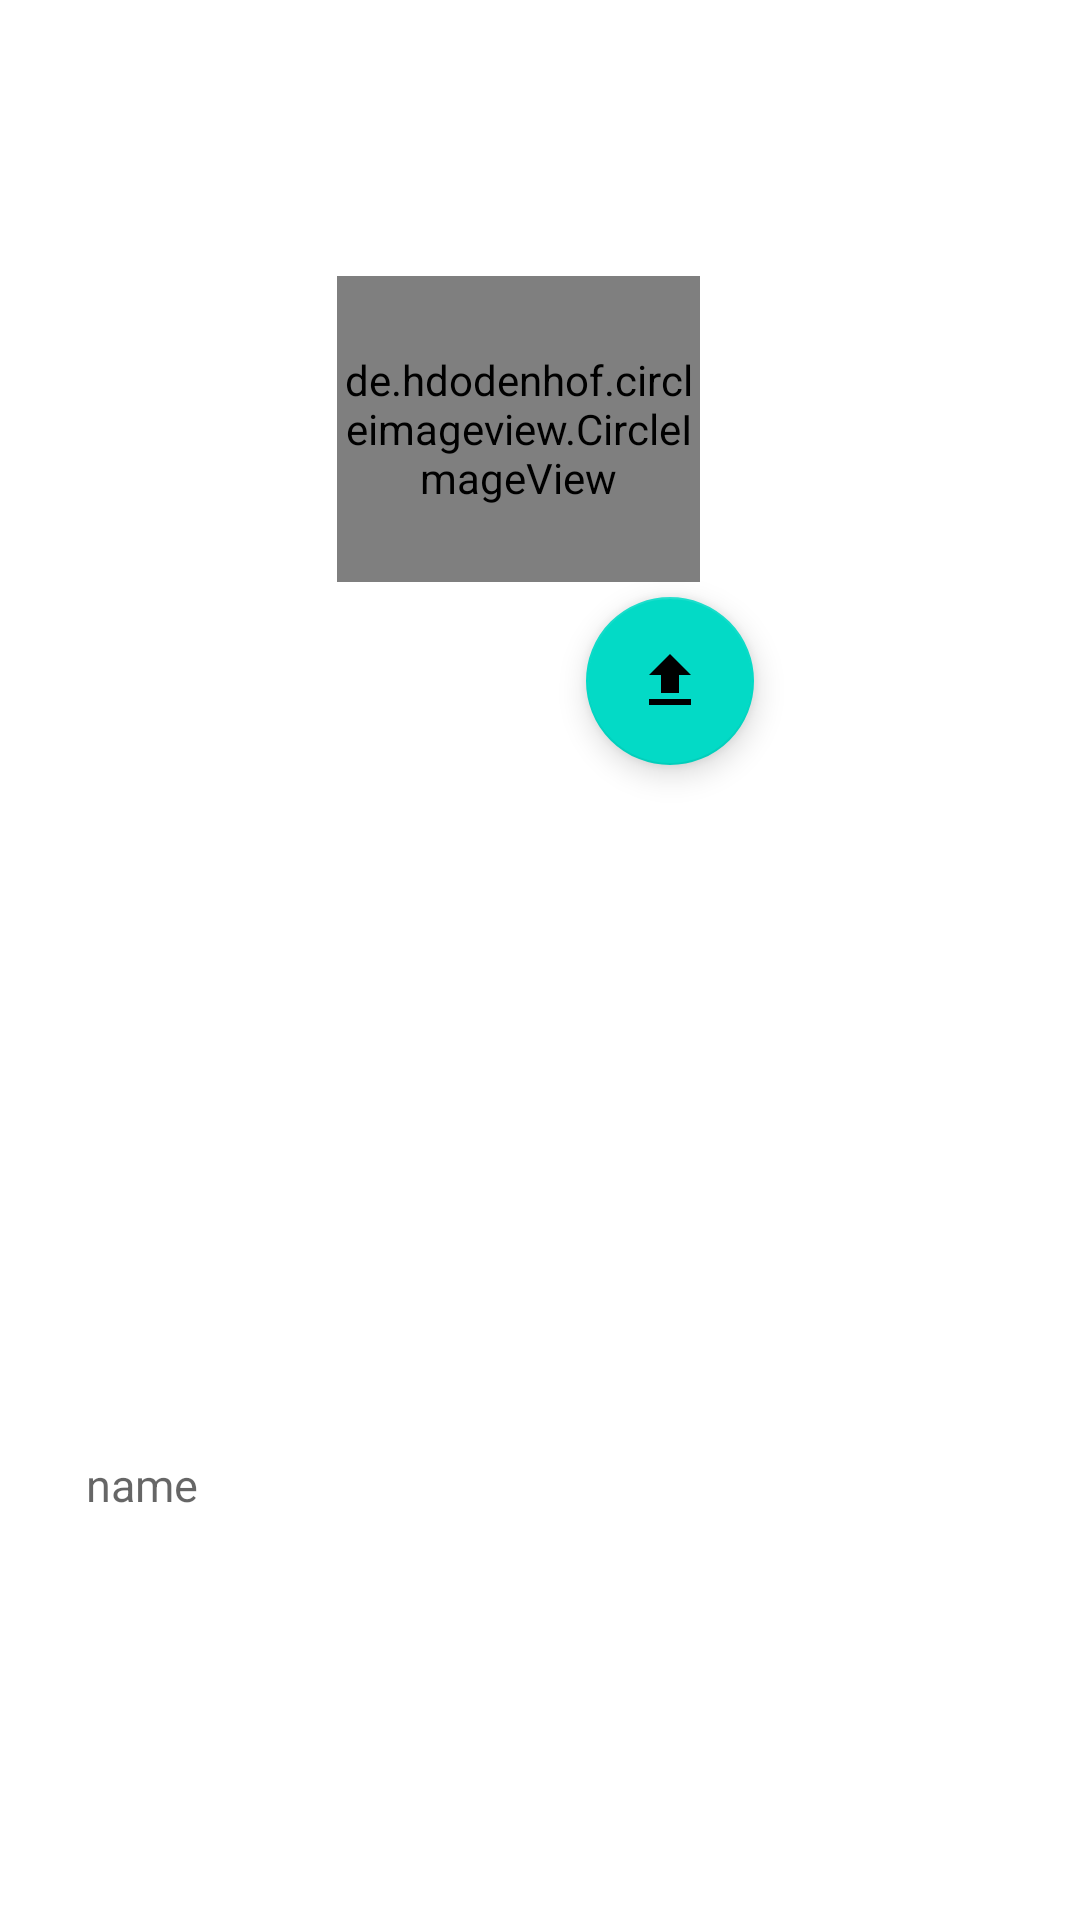

Icons on this 1080px x 1920px Android screen, each with its box as bbox(x1, y1, x2, y2):
upload: bbox(586, 597, 754, 765)
